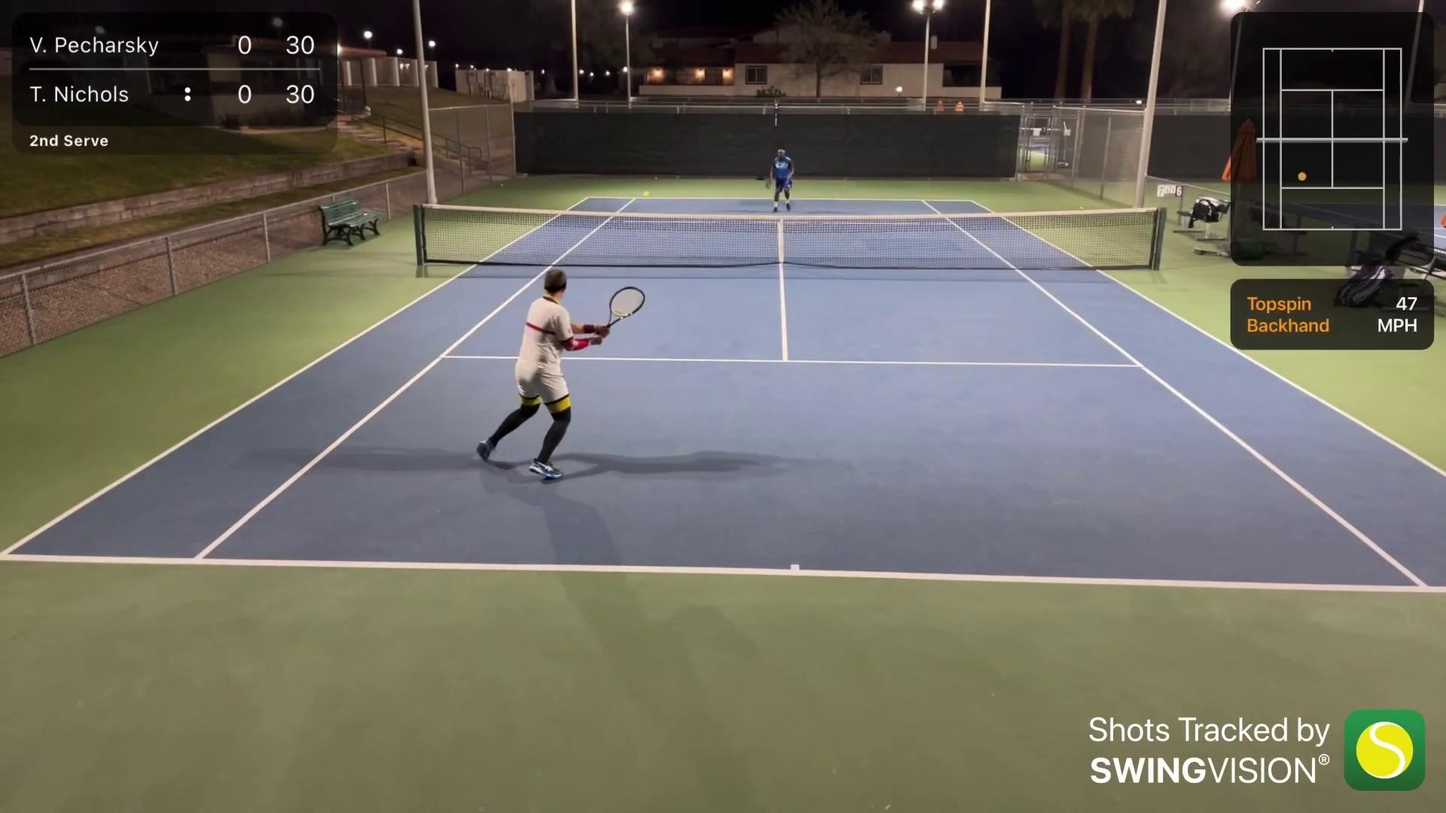ball: (499, 181, 505, 189), (644, 189, 650, 196), (653, 177, 659, 183)
